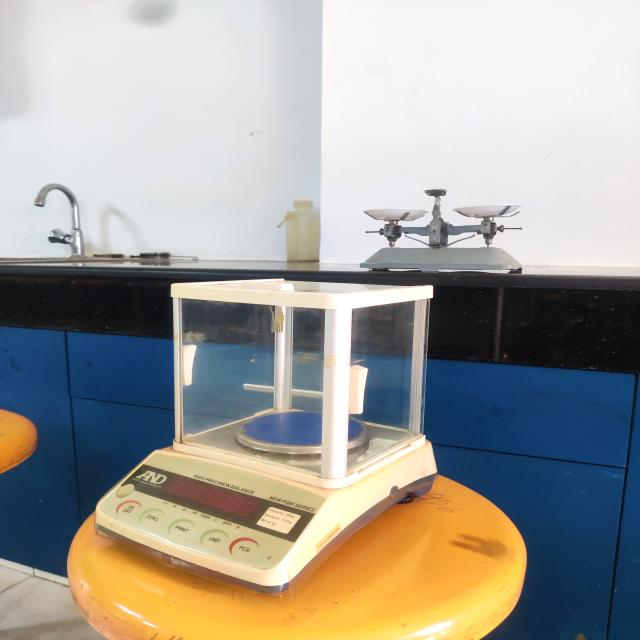Mechanical_Balance_Scale: (352, 170, 548, 284)
Precision_Weight_Scale: (81, 270, 463, 620)
